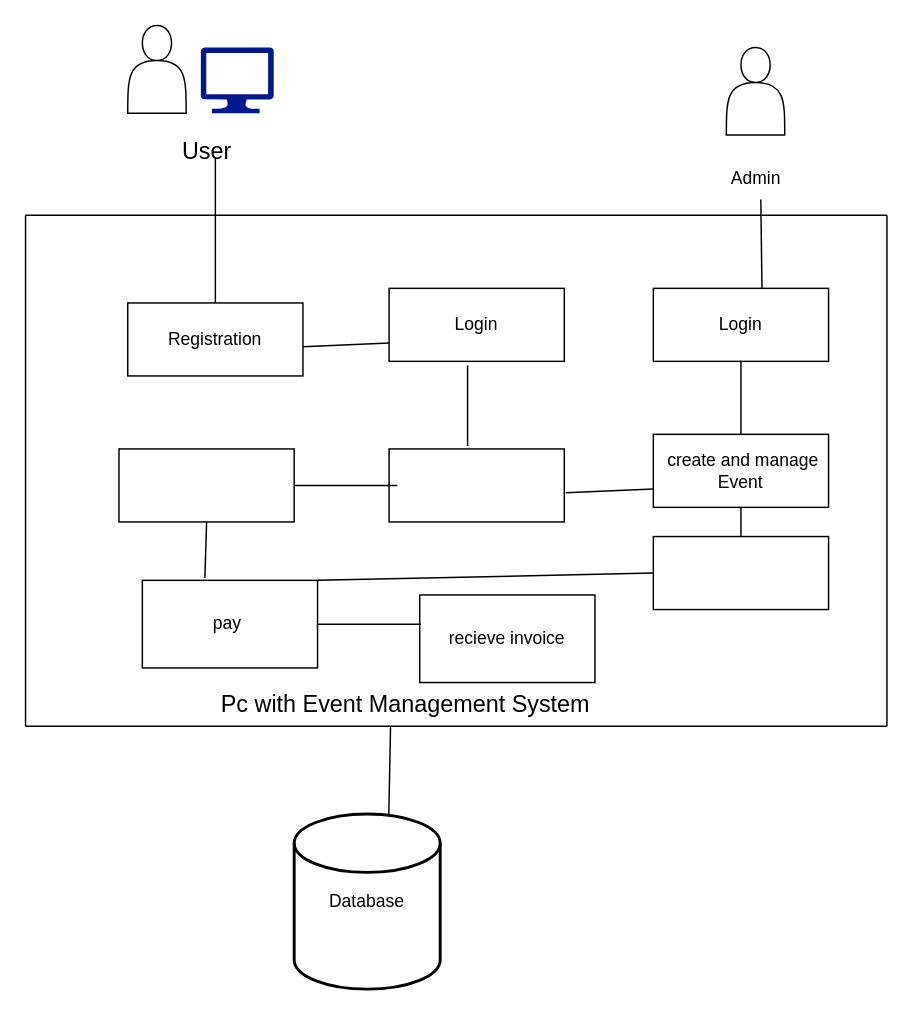
Some shapes in this 914 by 1016 pixel diagram are drawn without their labels. The shapes that lost their labels are listed below. From the top down, each one's box as (x1, y1, x2, y2) in pixels, then its label:
(118, 447, 294, 522): Book Event
(388, 447, 564, 522): view Event
(652, 535, 829, 610): view event booking
